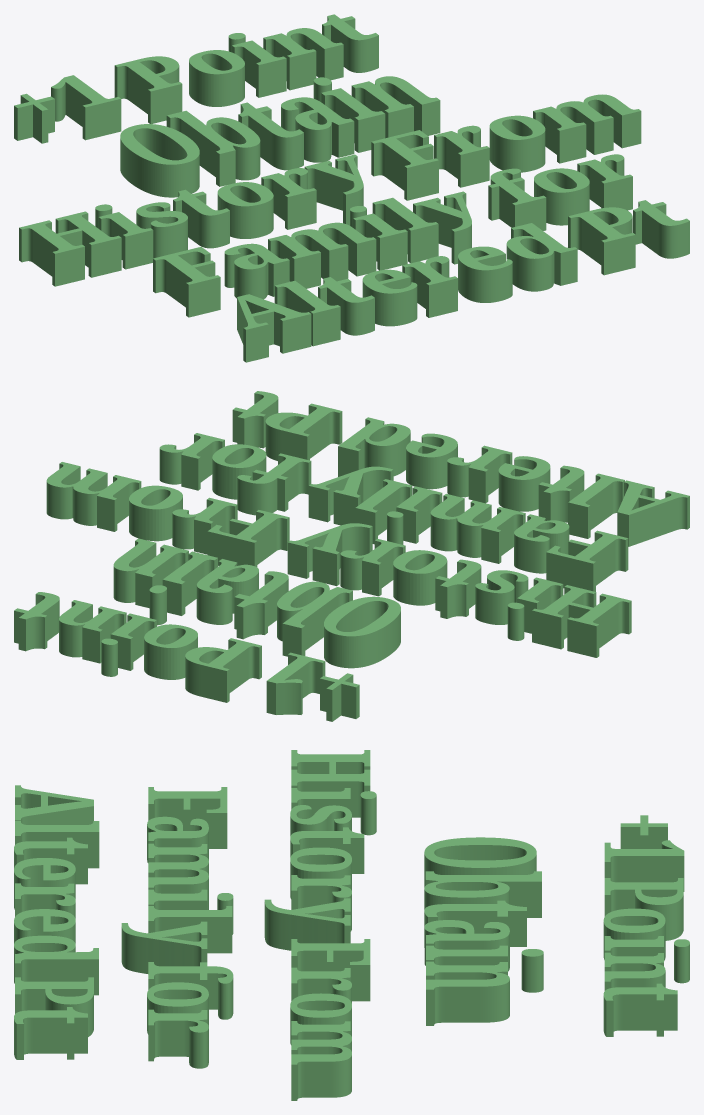
Rendered from posams.gltf.
The picture shows the model from 3 angles, top to bottom: view 1: azimuth 30°, elevation 25°; view 2: azimuth 150°, elevation 25°; view 3: azimuth 270°, elevation 25°; orthographic projection. The views are drawn at different scales.
Parts seen in each view (by area): view 1: Mesh_Mesh_head_geo001_lambert2SG001; view 2: Mesh_Mesh_head_geo001_lambert2SG001; view 3: Mesh_Mesh_head_geo001_lambert2SG001.
Part boxes in pixels (left/top/right/bottom): Mesh_Mesh_head_geo001_lambert2SG001: left=14, top=14, right=689, bottom=362; Mesh_Mesh_head_geo001_lambert2SG001: left=14, top=391, right=689, bottom=721; Mesh_Mesh_head_geo001_lambert2SG001: left=14, top=750, right=689, bottom=1100.
Size of the model in its own units: 187 by 10 by 170.
